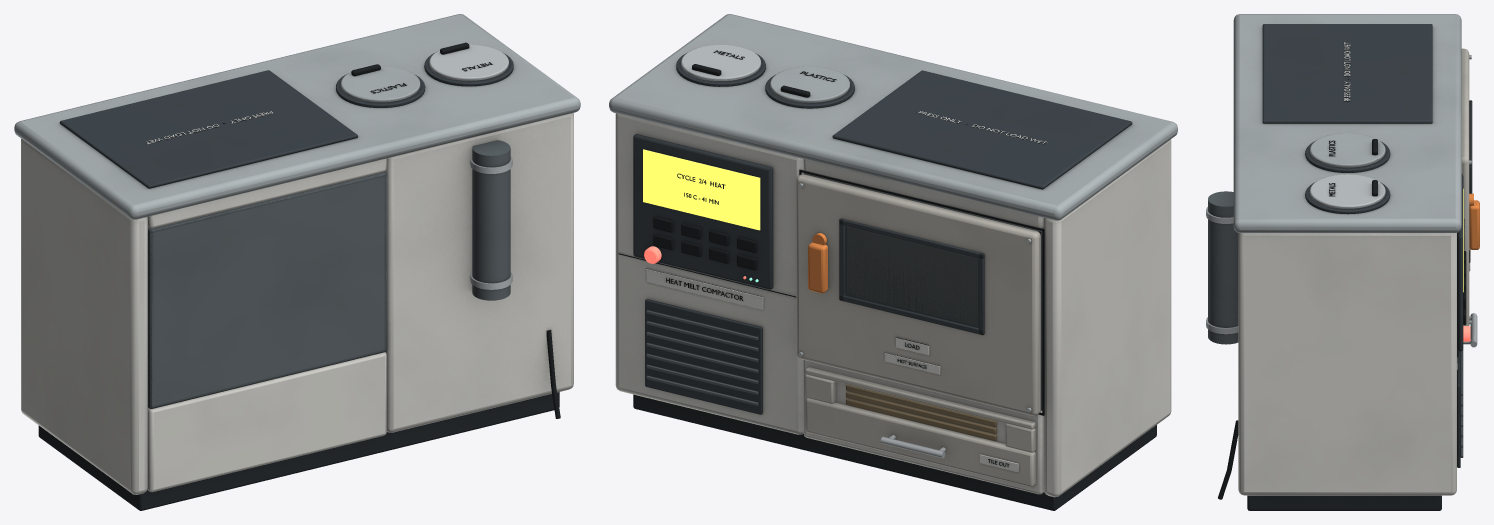
File: waste_sorting_unit.glb
3 renders of one model, left to right at view 1: azimuth 30°, elevation 25°; view 2: azimuth 150°, elevation 25°; view 3: azimuth 270°, elevation 25°, orthographic. The views are drawn at different scales.
Visible parts, largest first — view 1: unit_body_shell_white, chamber_shell_dark_alloy, unit_cap_panel_cool, top_hatch_frame_graphite, plinth_deep_graphite, exhaust_duct_dark_alloy, sort_lid_plastics_panel_cool, sort_lid_metals_satin_alloy, sort_rim_metals_frame_graphite, sort_rim_plastics_frame_graphite, exhaust_duct_clamps_satin_alloy; view 2: unit_body_shell_white, compactor_door_panel_warm, unit_cap_panel_cool, top_hatch_frame_graphite, tile_drawer_panel_warm, exhaust_vent_dark_alloy, compactor_window_dark_glass, control_bezel_frame_graphite, plinth_deep_graphite, control_screen_amber, compactor_door_trim_frame_graphite, sort_lid_plastics_panel_cool (+10 smaller); view 3: unit_body_shell_white, unit_cap_panel_cool, top_hatch_frame_graphite, exhaust_duct_dark_alloy, plinth_deep_graphite, sort_lid_metals_satin_alloy, sort_lid_plastics_panel_cool, compactor_door_panel_warm, control_bezel_frame_graphite, exhaust_vent_dark_alloy, sort_rim_plastics_frame_graphite, sort_rim_metals_frame_graphite (+4 smaller).
Boxes of the visible parts, x1=… form: unit_body_shell_white: x1=21, y1=113, x2=573, y2=494; chamber_shell_dark_alloy: x1=148, y1=171, x2=387, y2=408; unit_cap_panel_cool: x1=14, y1=14, x2=580, y2=219; top_hatch_frame_graphite: x1=59, y1=70, x2=358, y2=188; plinth_deep_graphite: x1=38, y1=392, x2=559, y2=510; exhaust_duct_dark_alloy: x1=472, y1=140, x2=510, y2=300; sort_lid_plastics_panel_cool: x1=340, y1=66, x2=420, y2=102; sort_lid_metals_satin_alloy: x1=429, y1=44, x2=508, y2=81; sort_rim_metals_frame_graphite: x1=424, y1=53, x2=513, y2=86; sort_rim_plastics_frame_graphite: x1=336, y1=75, x2=425, y2=107; exhaust_duct_clamps_satin_alloy: x1=470, y1=156, x2=512, y2=289; unit_body_shell_white: x1=615, y1=113, x2=1171, y2=497; compactor_door_panel_warm: x1=796, y1=174, x2=1040, y2=415; unit_cap_panel_cool: x1=609, y1=14, x2=1177, y2=220; top_hatch_frame_graphite: x1=832, y1=70, x2=1132, y2=189; tile_drawer_panel_warm: x1=805, y1=367, x2=1035, y2=486; exhaust_vent_dark_alloy: x1=645, y1=299, x2=762, y2=414; compactor_window_dark_glass: x1=845, y1=226, x2=978, y2=327; control_bezel_frame_graphite: x1=633, y1=134, x2=773, y2=289; plinth_deep_graphite: x1=633, y1=394, x2=1156, y2=510; control_screen_amber: x1=643, y1=149, x2=760, y2=230; compactor_door_trim_frame_graphite: x1=839, y1=218, x2=984, y2=335; sort_lid_plastics_panel_cool: x1=770, y1=66, x2=849, y2=103; unit_body_shell_white: x1=1238, y1=233, x2=1456, y2=495; unit_cap_panel_cool: x1=1233, y1=14, x2=1461, y2=232; top_hatch_frame_graphite: x1=1262, y1=24, x2=1432, y2=123; exhaust_duct_dark_alloy: x1=1208, y1=191, x2=1238, y2=344; plinth_deep_graphite: x1=1247, y1=495, x2=1441, y2=510; sort_lid_metals_satin_alloy: x1=1309, y1=174, x2=1385, y2=209; sort_lid_plastics_panel_cool: x1=1309, y1=133, x2=1385, y2=167; compactor_door_panel_warm: x1=1461, y1=48, x2=1469, y2=325; control_bezel_frame_graphite: x1=1457, y1=174, x2=1463, y2=351; exhaust_vent_dark_alloy: x1=1457, y1=349, x2=1463, y2=467; sort_rim_plastics_frame_graphite: x1=1305, y1=141, x2=1390, y2=172; sort_rim_metals_frame_graphite: x1=1305, y1=182, x2=1390, y2=214.
Size of the model in its own units: 1.63 by 1.12 by 0.901.
7 materials, 1 textured.
